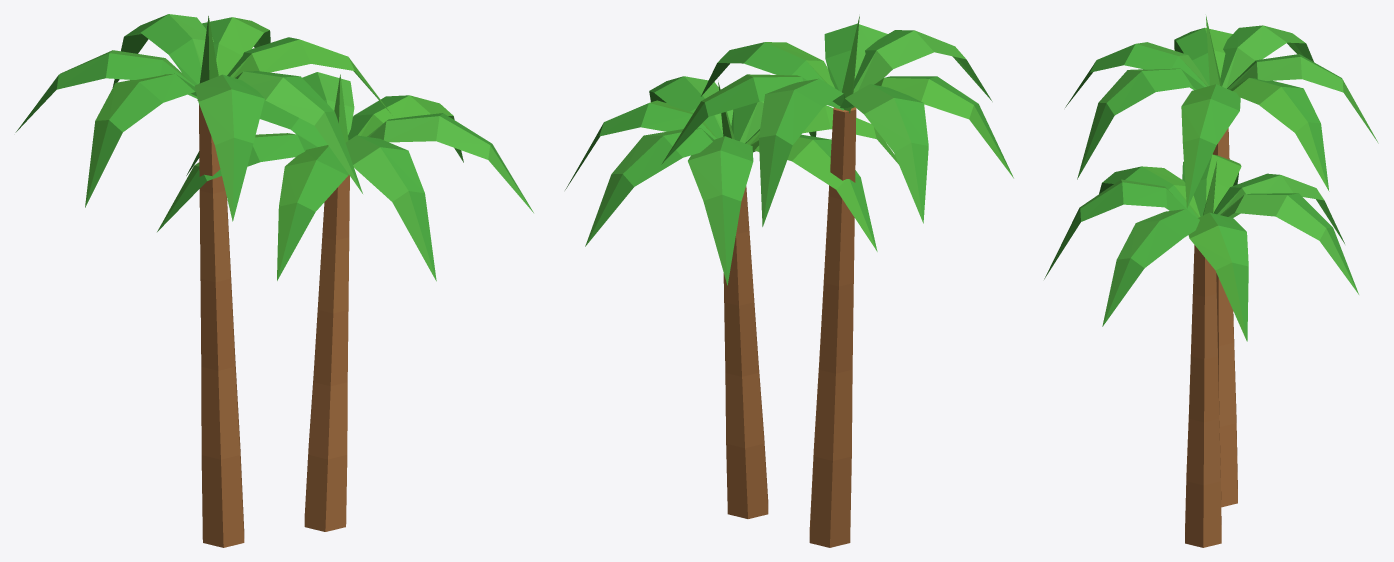
File: tree_palm_b.glb
The picture shows the model from 3 angles, left to right: view 1: azimuth 30°, elevation 25°; view 2: azimuth 150°, elevation 25°; view 3: azimuth 270°, elevation 25°; orthographic projection. The views are drawn at different scales.
Visible parts, largest first — view 1: tree_palm_b; view 2: tree_palm_b; view 3: tree_palm_b.
Part boxes in pixels (x1,y1,x2,y2): tree_palm_b: (15,14,533,547); tree_palm_b: (565,16,1013,547); tree_palm_b: (1044,16,1378,547).
Bounding box in the file's own units: 1.32 × 1.6 × 1.03.
